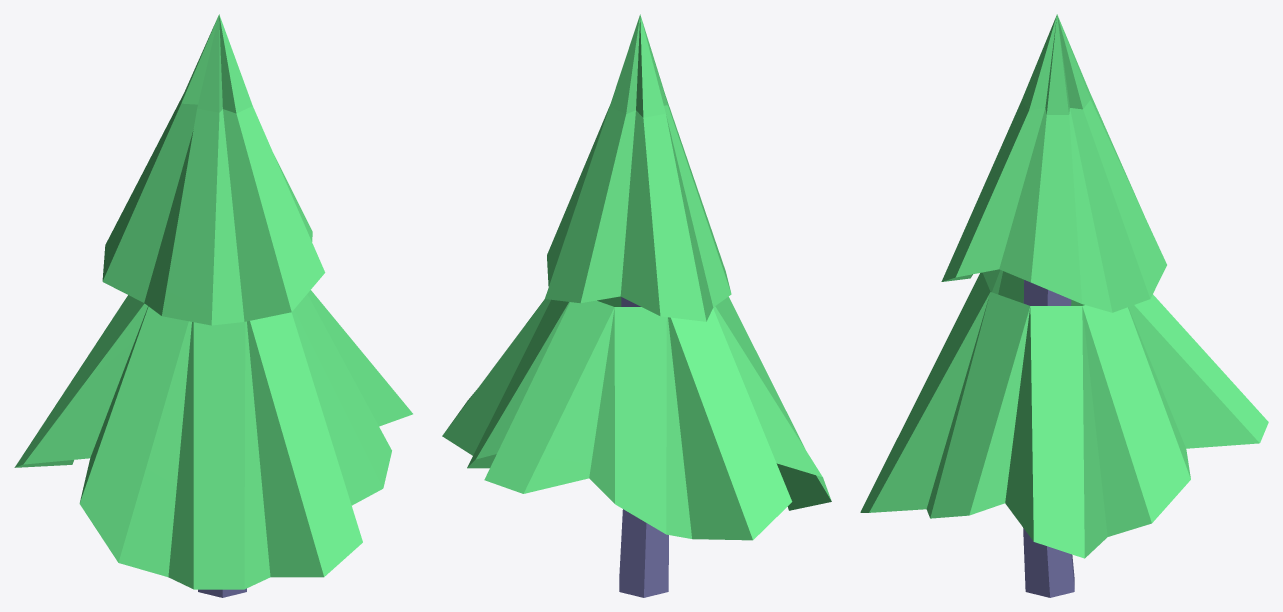
Rendered from SM_Tree_05.fbx.
3 views of the same model, side by side, from view 1: azimuth 30°, elevation 25°; view 2: azimuth 150°, elevation 25°; view 3: azimuth 270°, elevation 25° (orthographic).
Parts seen in each view (by area): view 1: Tree Type2 01 Model; view 2: Tree Type2 01 Model; view 3: Tree Type2 01 Model.
Boxes of the visible parts, x1,y1,x2,y2 form: Tree Type2 01 Model: (14,14,412,597); Tree Type2 01 Model: (442,14,831,597); Tree Type2 01 Model: (860,14,1268,597).
Bounding box in the file's own units: 129 × 197 × 128.
